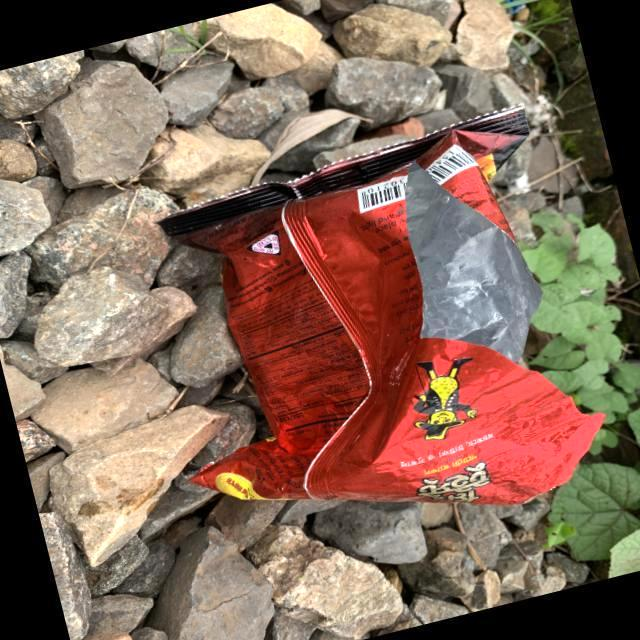packet: (124, 96, 625, 581)
